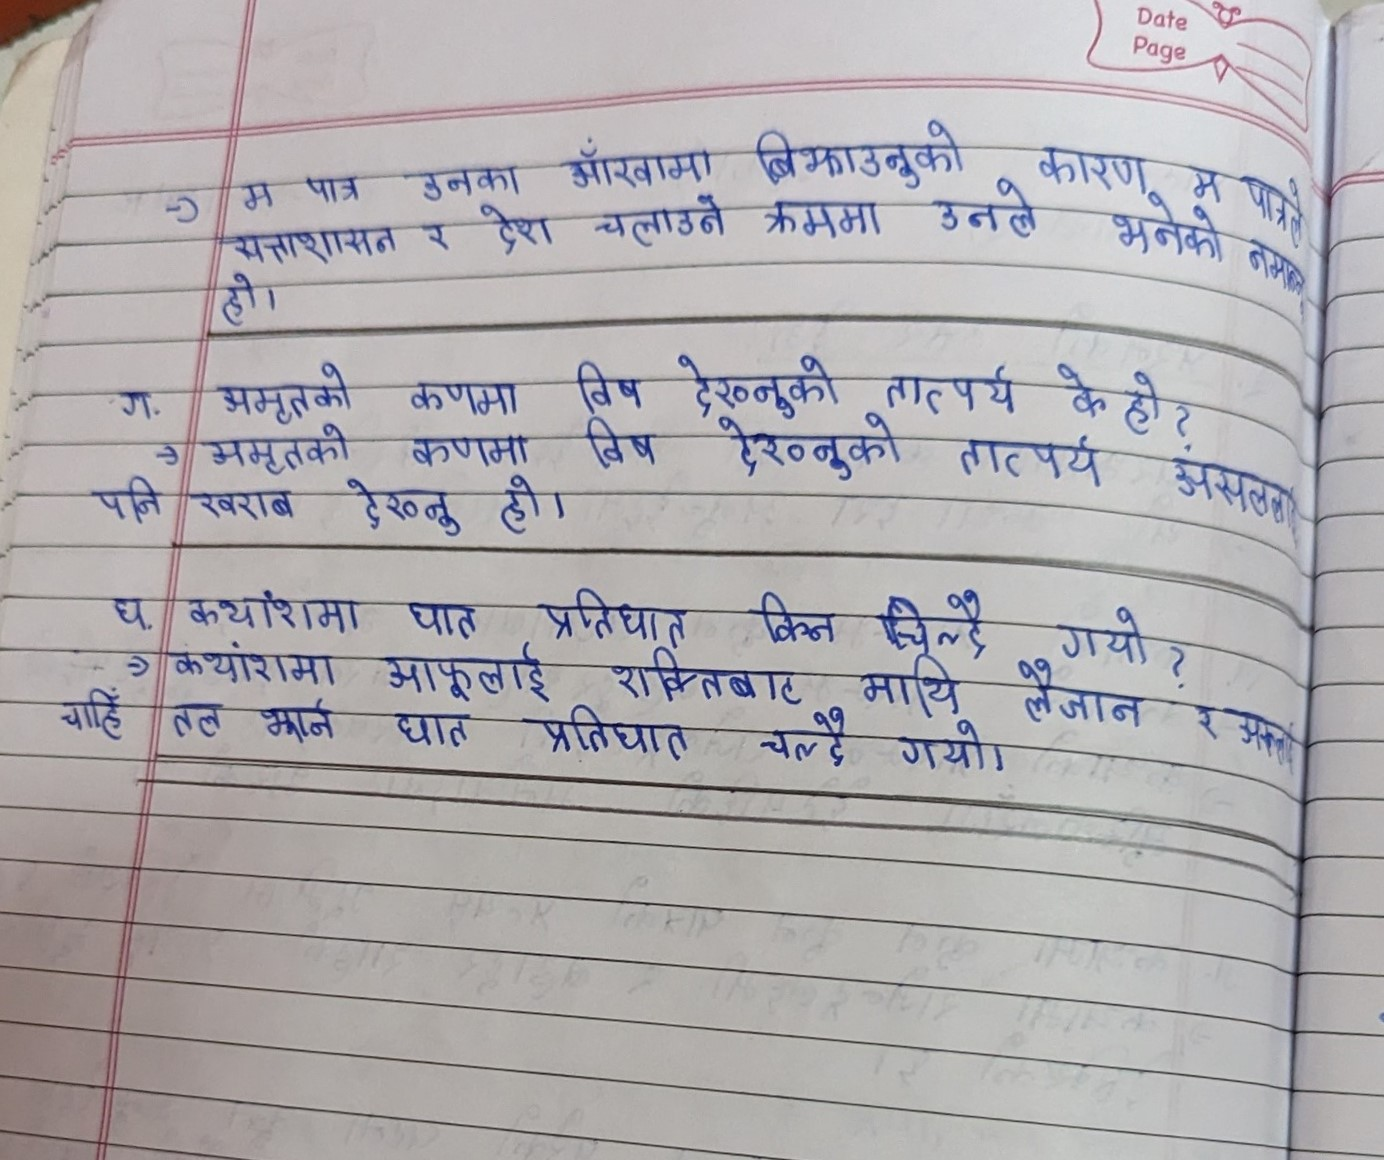text: (755, 115, 963, 194), (1159, 450, 1310, 554), (597, 644, 806, 704), (714, 415, 907, 476), (376, 640, 556, 701), (522, 705, 709, 764), (205, 358, 366, 426), (951, 427, 1115, 494), (672, 352, 832, 420), (1014, 661, 1147, 735), (185, 585, 364, 635), (878, 356, 1022, 415), (193, 423, 355, 475), (170, 635, 334, 686), (529, 589, 688, 641), (337, 476, 466, 537), (559, 137, 718, 186), (1029, 129, 1149, 192), (879, 586, 982, 656), (1052, 600, 1153, 669), (408, 366, 526, 425), (851, 658, 976, 713), (928, 180, 1042, 239), (225, 223, 395, 264), (1101, 207, 1232, 259), (597, 198, 735, 246), (1236, 163, 1320, 241), (888, 720, 1001, 777), (748, 588, 842, 655), (1228, 695, 1303, 777), (763, 192, 885, 243), (754, 709, 858, 766), (402, 427, 540, 470), (391, 703, 485, 763), (153, 694, 244, 753), (578, 415, 665, 472), (472, 198, 555, 254), (184, 486, 301, 525), (54, 687, 128, 748), (261, 695, 341, 751), (86, 468, 165, 522), (569, 362, 649, 414), (413, 161, 518, 199), (1241, 246, 1313, 300), (400, 597, 482, 642), (491, 473, 551, 534), (1124, 361, 1171, 436), (215, 169, 277, 217), (1057, 358, 1104, 419), (105, 588, 158, 639), (110, 377, 166, 423), (299, 171, 359, 205), (1182, 155, 1222, 204), (1190, 692, 1219, 745), (416, 216, 454, 255)
